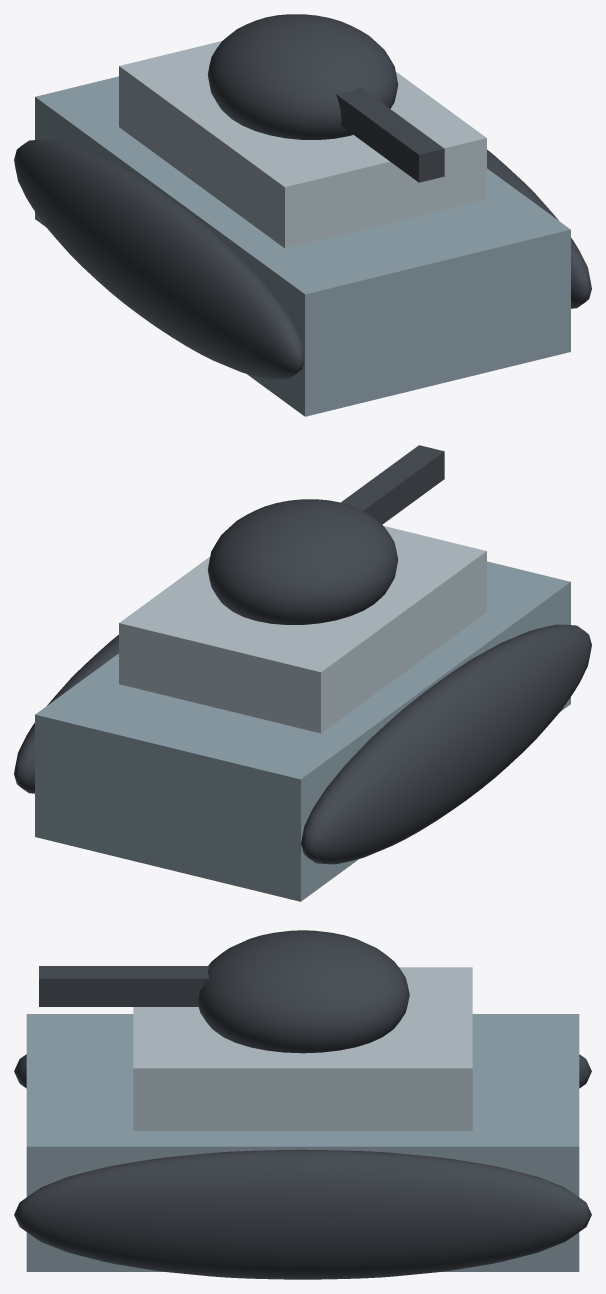
Rendered from vehicle.glb.
The picture shows the model from 3 angles, top to bottom: view 1: azimuth 30°, elevation 25°; view 2: azimuth 150°, elevation 25°; view 3: azimuth 270°, elevation 25°; orthographic projection. The views are drawn at different scales.
Parts seen in each view (by area): view 1: 车体, 上装甲, 履带, 炮塔, 炮管, 履带.001; view 2: 车体, 上装甲, 履带, 炮塔, 炮管, 履带.001; view 3: 履带.001, 车体, 上装甲, 炮塔, 炮管, 履带.
Boxes of the visible parts, x1,y1,x2,y2 form: 车体: (35, 76, 570, 416); 上装甲: (119, 41, 486, 248); 履带: (14, 139, 304, 379); 炮塔: (207, 14, 398, 139); 炮管: (336, 88, 444, 182); 履带.001: (487, 149, 591, 308); 车体: (35, 561, 570, 901); 上装甲: (119, 526, 486, 733); 履带: (301, 624, 591, 864); 炮塔: (207, 499, 398, 624); 炮管: (341, 445, 444, 524); 履带.001: (14, 634, 118, 793); 履带.001: (14, 1149, 591, 1279); 车体: (26, 1014, 579, 1271); 上装甲: (133, 967, 472, 1130); 炮塔: (198, 930, 409, 1053); 炮管: (39, 966, 209, 1006); 履带: (14, 1054, 591, 1088).
Bounding box in the file's own units: 3.38 × 2.3 × 4.6.
